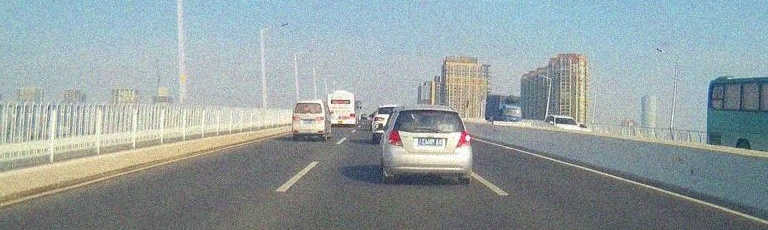L_light: (388, 130, 404, 147), (293, 117, 300, 120)
R_light: (456, 130, 471, 148), (316, 116, 324, 120)
T_light: (424, 110, 436, 114), (306, 103, 311, 105)
day-no: (292, 99, 326, 141)
day-right: (383, 105, 472, 184)
